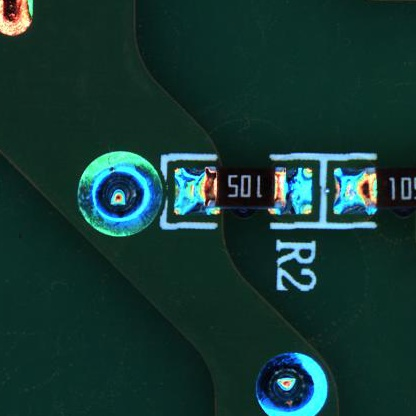spot: (70, 148, 165, 242), (253, 349, 326, 416)
